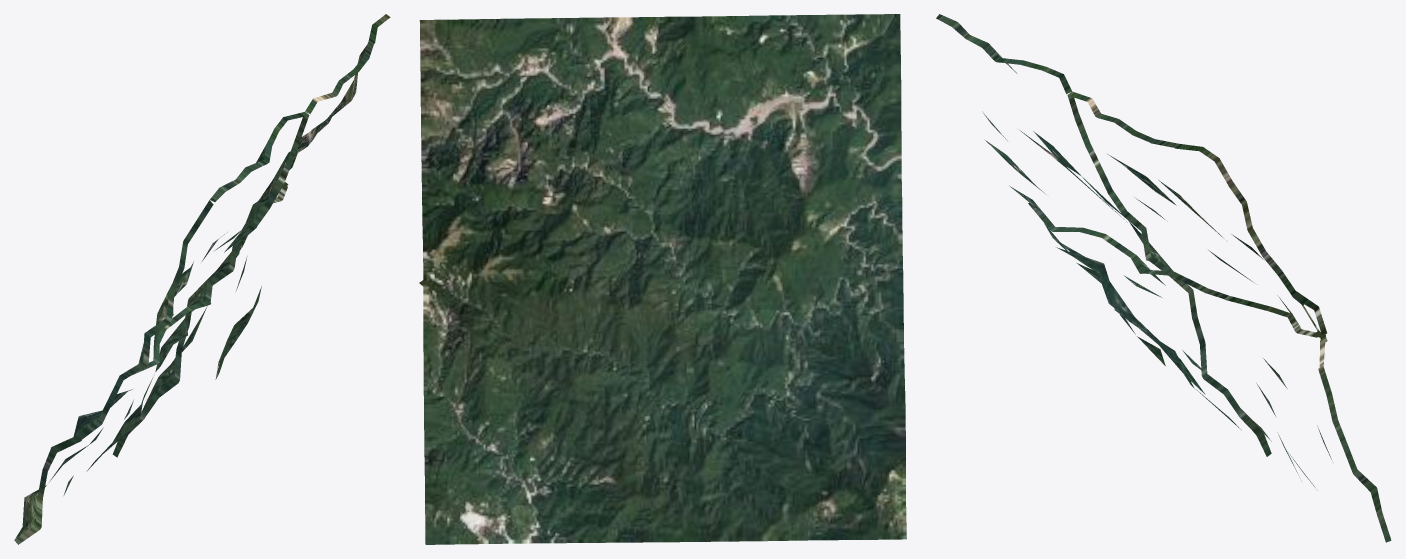
3 renders of one model, left to right at view 1: azimuth 30°, elevation 25°; view 2: azimuth 150°, elevation 25°; view 3: azimuth 270°, elevation 25°, orthographic. The views are drawn at different scales.
Size of the model in its own units: 19396 by 18548 by 17441.
Materials: 1 (1 with a texture image).
